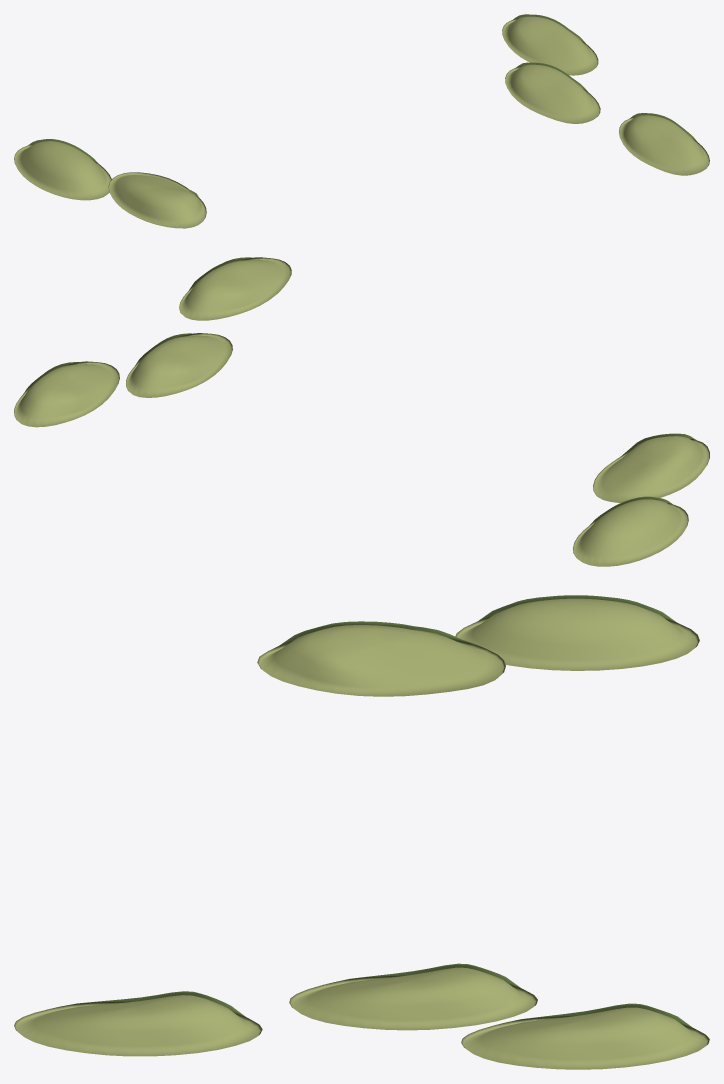
The model's file is Mausolée_Seclin_V3_Tumulis.glb.
3 views of the same model, one above another, from view 1: azimuth 30°, elevation 25°; view 2: azimuth 150°, elevation 25°; view 3: azimuth 270°, elevation 25° (orthographic). The views are drawn at different scales.
Visible parts, largest first — view 1: Tumulis; view 2: Tumulis; view 3: Tumulis.
Boxes of the visible parts, x1,y1,x2,y2 form: Tumulis: (14,14,709,228); Tumulis: (14,257,709,566); Tumulis: (14,595,709,1069).
Bounding box in the file's own units: 7.9 × 0.3149 × 5.01.
Materials: 1 (1 with a texture image).
